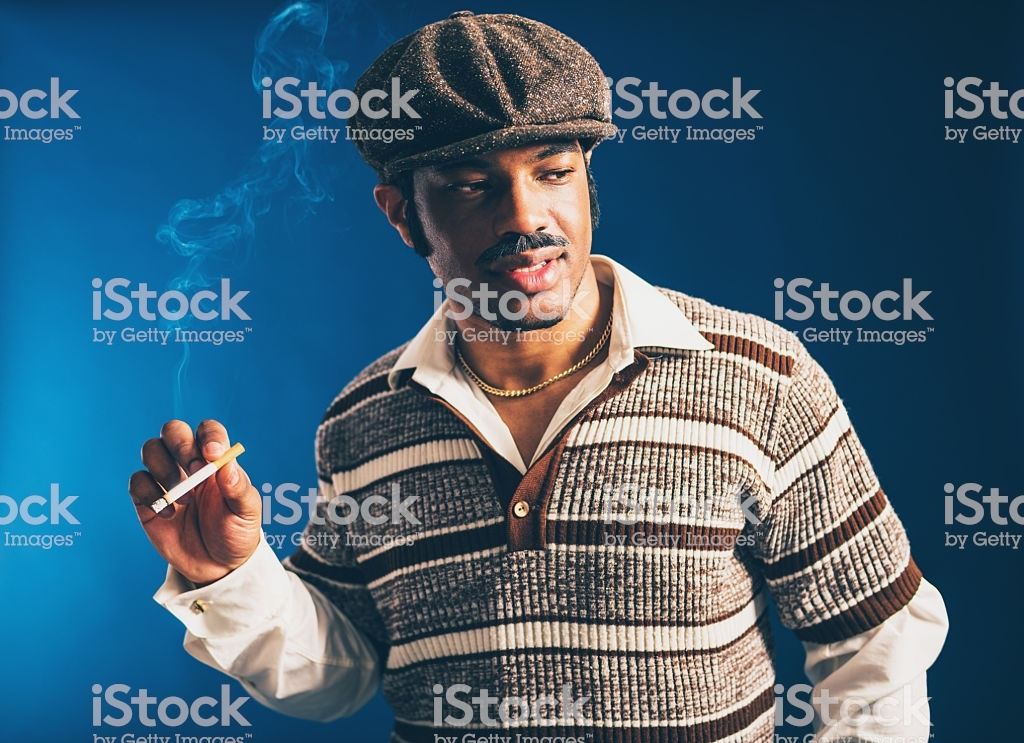sigaretta: (150, 438, 250, 516)
